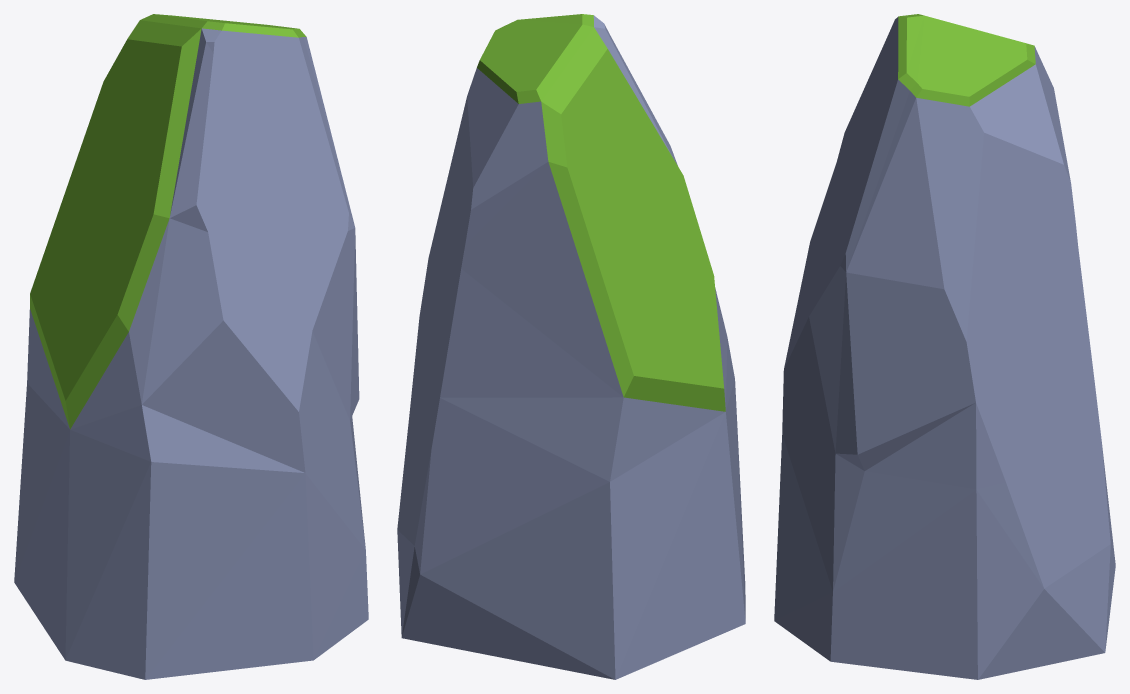
Rendered from Rock_37_1.fbx.
3 renders of one model, left to right at view 1: azimuth 30°, elevation 25°; view 2: azimuth 150°, elevation 25°; view 3: azimuth 270°, elevation 25°, orthographic. The views are drawn at different scales.
Visible parts, largest first — view 1: Rock_37_1; view 2: Rock_37_1; view 3: Rock_37_1.
Boxes of the visible parts, x1,y1,x2,y2 form: Rock_37_1: (14, 14, 368, 679); Rock_37_1: (397, 14, 745, 679); Rock_37_1: (774, 14, 1115, 679).
Bounding box in the file's own units: 1.92 × 3.54 × 1.85.
